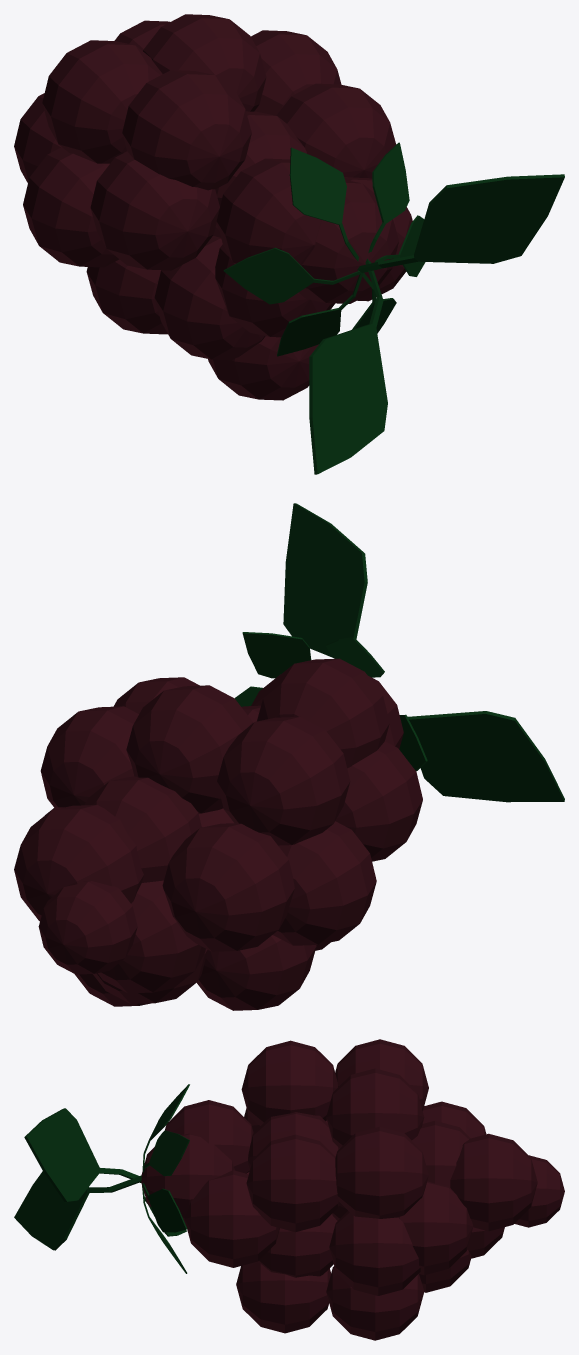
Rendered from anggur.obj.
3 renders of one model, top to bottom at view 1: azimuth 30°, elevation 25°; view 2: azimuth 150°, elevation 25°; view 3: azimuth 270°, elevation 25°, orthographic. The views are drawn at different scales.
Visible parts, largest first — view 1: Sphere.018_Sphere.020, Sphere.011_Sphere.013, Plane.000_Plane.002, Sphere.003_Sphere.005, Plane.003, Sphere.012_Sphere.014, Sphere.002_Sphere.004, Sphere.008_Sphere.010, Sphere.020_Sphere.022, Sphere.001_Sphere.003, Sphere.026_Sphere.028, Sphere.007_Sphere.009 (+13 smaller); view 2: Sphere.021_Sphere.023, Sphere.003_Sphere.005, Plane.003, Sphere.001_Sphere.003, Sphere.023_Sphere.025, Plane.000_Plane.002, Sphere.002_Sphere.004, Sphere.018_Sphere.020, Sphere.025_Sphere.027, Sphere.007_Sphere.009, Sphere.011_Sphere.013, Sphere.017_Sphere.019 (+9 smaller); view 3: Sphere.012_Sphere.014, Sphere.007_Sphere.009, Sphere.023_Sphere.025, Sphere.015_Sphere.017, Sphere.018_Sphere.020, Sphere.006_Sphere.008, Sphere.001_Sphere.003, Sphere.019_Sphere.021, Plane.000_Plane.002, Sphere.022_Sphere.024, Sphere.016_Sphere.018, Plane.003 (+13 smaller).
Part boxes in pixels (x1,y1,x2,y2): Sphere.018_Sphere.020: [122, 70, 251, 190]; Sphere.011_Sphere.013: [90, 151, 219, 270]; Plane.000_Plane.002: [357, 174, 564, 272]; Sphere.003_Sphere.005: [42, 40, 162, 163]; Plane.003: [309, 258, 387, 474]; Sphere.012_Sphere.014: [276, 83, 395, 178]; Sphere.002_Sphere.004: [23, 147, 119, 267]; Sphere.008_Sphere.010: [216, 158, 321, 265]; Sphere.020_Sphere.022: [154, 235, 265, 360]; Sphere.001_Sphere.003: [143, 14, 266, 111]; Sphere.026_Sphere.028: [298, 180, 398, 303]; Sphere.007_Sphere.009: [251, 30, 341, 115]; Sphere.021_Sphere.023: [162, 823, 294, 951]; Sphere.003_Sphere.005: [217, 717, 350, 845]; Plane.003: [407, 711, 564, 802]; Sphere.001_Sphere.003: [126, 685, 252, 813]; Sphere.023_Sphere.025: [14, 805, 143, 921]; Plane.000_Plane.002: [283, 503, 367, 658]; Sphere.002_Sphere.004: [273, 821, 376, 945]; Sphere.018_Sphere.020: [257, 658, 389, 768]; Sphere.025_Sphere.027: [38, 881, 137, 974]; Sphere.007_Sphere.009: [40, 706, 138, 807]; Sphere.011_Sphere.013: [335, 741, 422, 861]; Sphere.017_Sphere.019: [84, 776, 201, 882]; Sphere.012_Sphere.014: [246, 1134, 339, 1232]; Sphere.007_Sphere.009: [335, 1126, 428, 1218]; Sphere.023_Sphere.025: [450, 1133, 537, 1231]; Sphere.015_Sphere.017: [184, 1170, 279, 1267]; Sphere.018_Sphere.020: [241, 1040, 337, 1125]; Sphere.006_Sphere.008: [329, 1211, 420, 1295]; Sphere.001_Sphere.003: [326, 1068, 424, 1148]; Sphere.019_Sphere.021: [236, 1262, 330, 1333]; Plane.000_Plane.002: [24, 1108, 141, 1201]; Sphere.022_Sphere.024: [398, 1181, 473, 1275]; Sphere.016_Sphere.018: [326, 1266, 424, 1340]; Plane.003: [14, 1171, 141, 1250].
Bounding box in the file's own units: 2.22 × 2.25 × 4.38.
